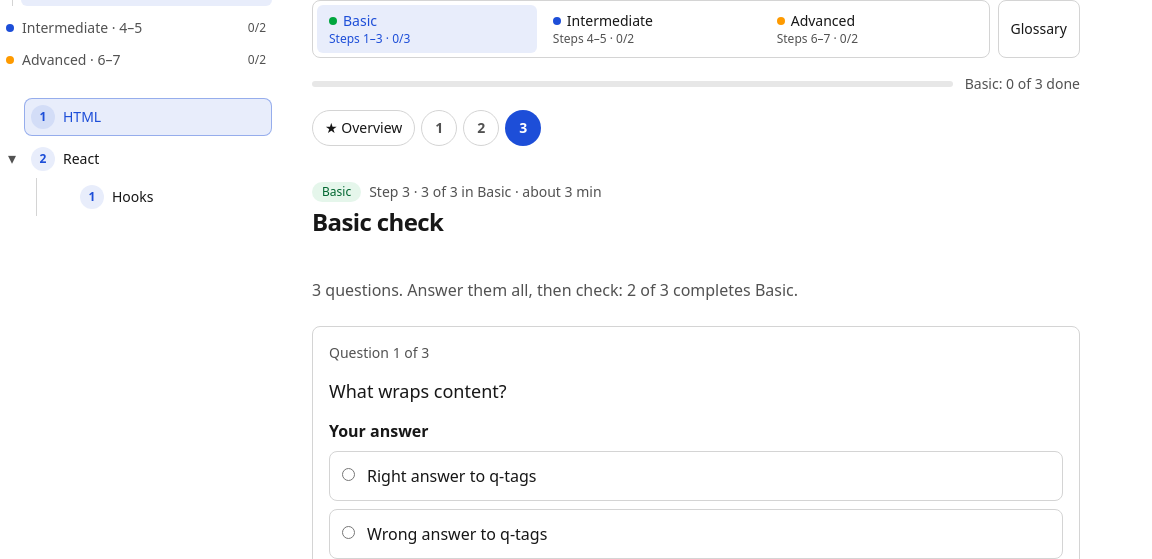
Test: LevelCheck › says “almost there” below the pass mark, and lets the learner try again
Expected: the text "What wraps content?" is shown, [329,379,507,403]
Click the radio button labelled "Wrong answer to q-tags" at (348, 532), box [342,526,355,539]
(page scrolled)
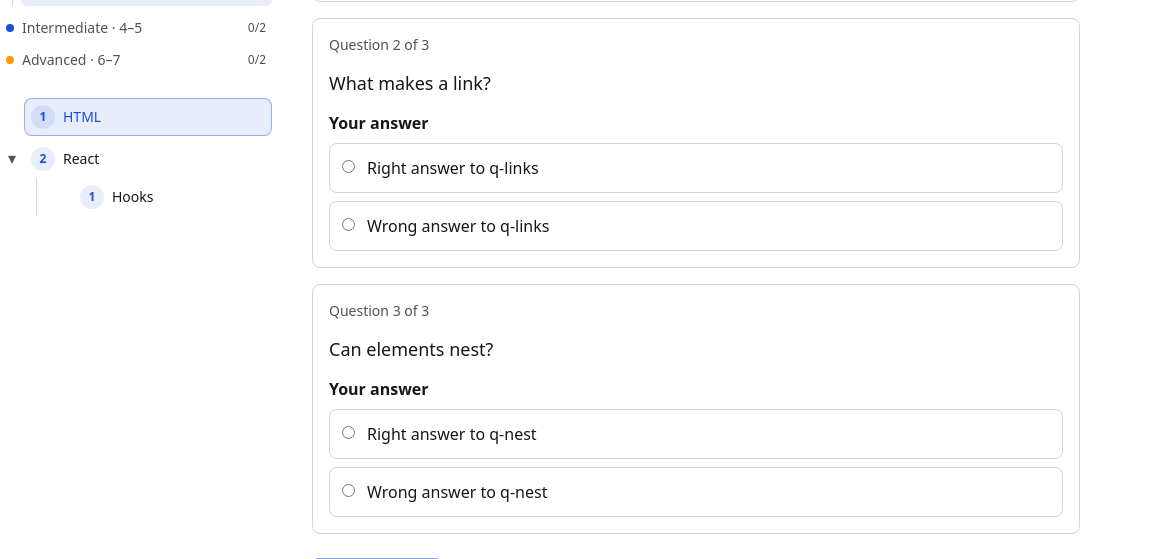
Click the radio button labelled "Wrong answer to q-links" at (348, 224), box [342,218,355,231]
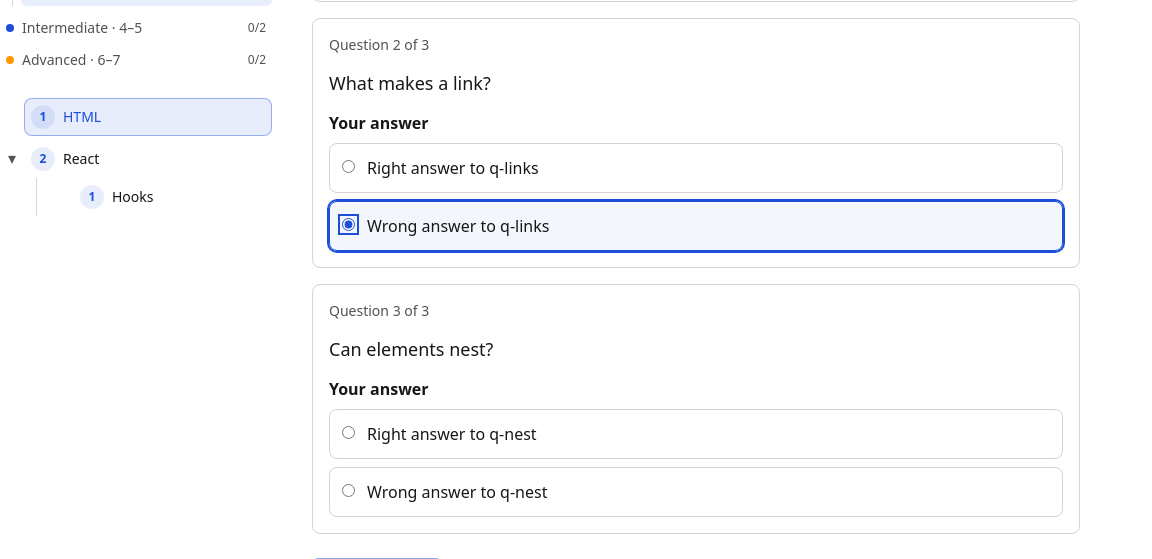
Click the radio button labelled "Right answer to q-nest" at (348, 432), box [342,426,355,439]
(page scrolled)
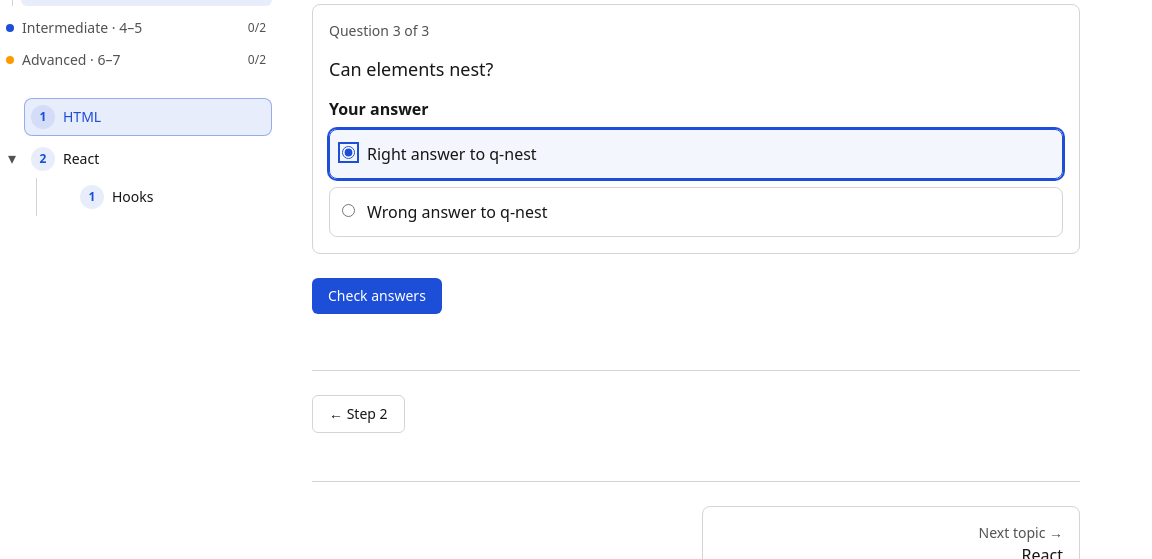
Click the button "Check answers" at (377, 296), box [312,278,442,314]
(page scrolled)
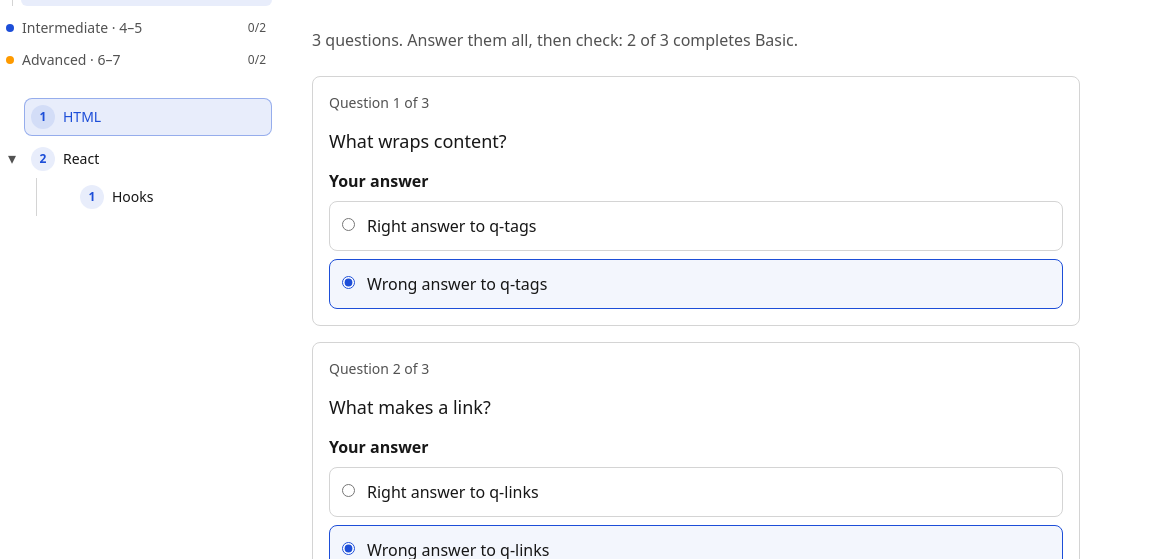
Click the radio button labelled "Right answer to q-tags" at (348, 224), box [342,218,355,231]
(page scrolled)
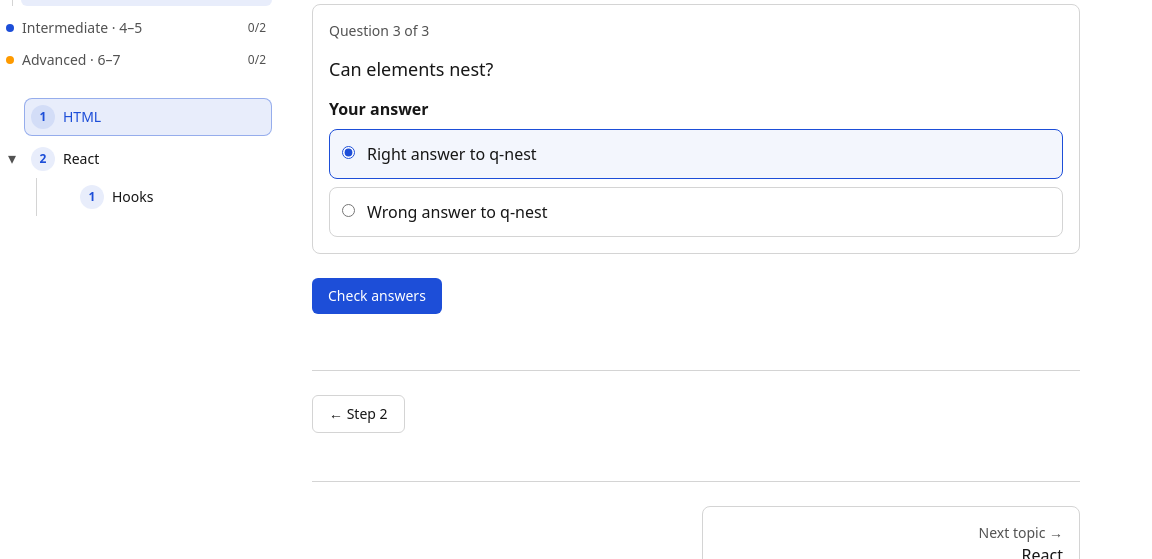
Result: the button "Check answers" is enabled at [312,278,442,314]
